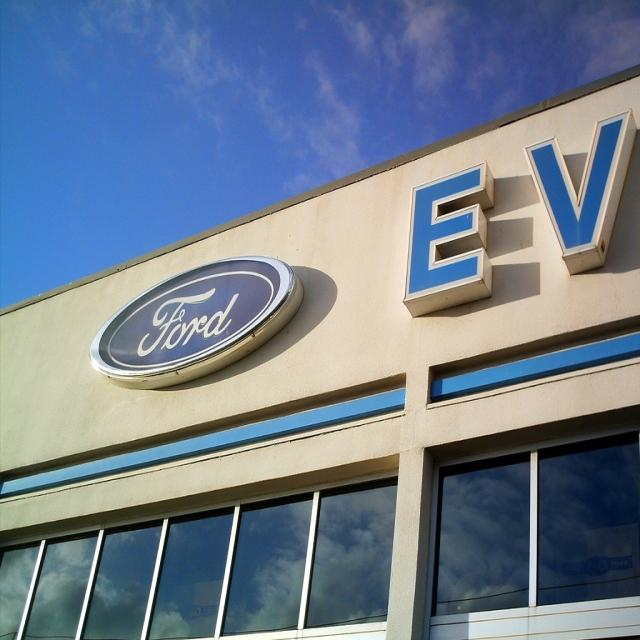ford: (87, 254, 296, 384)
